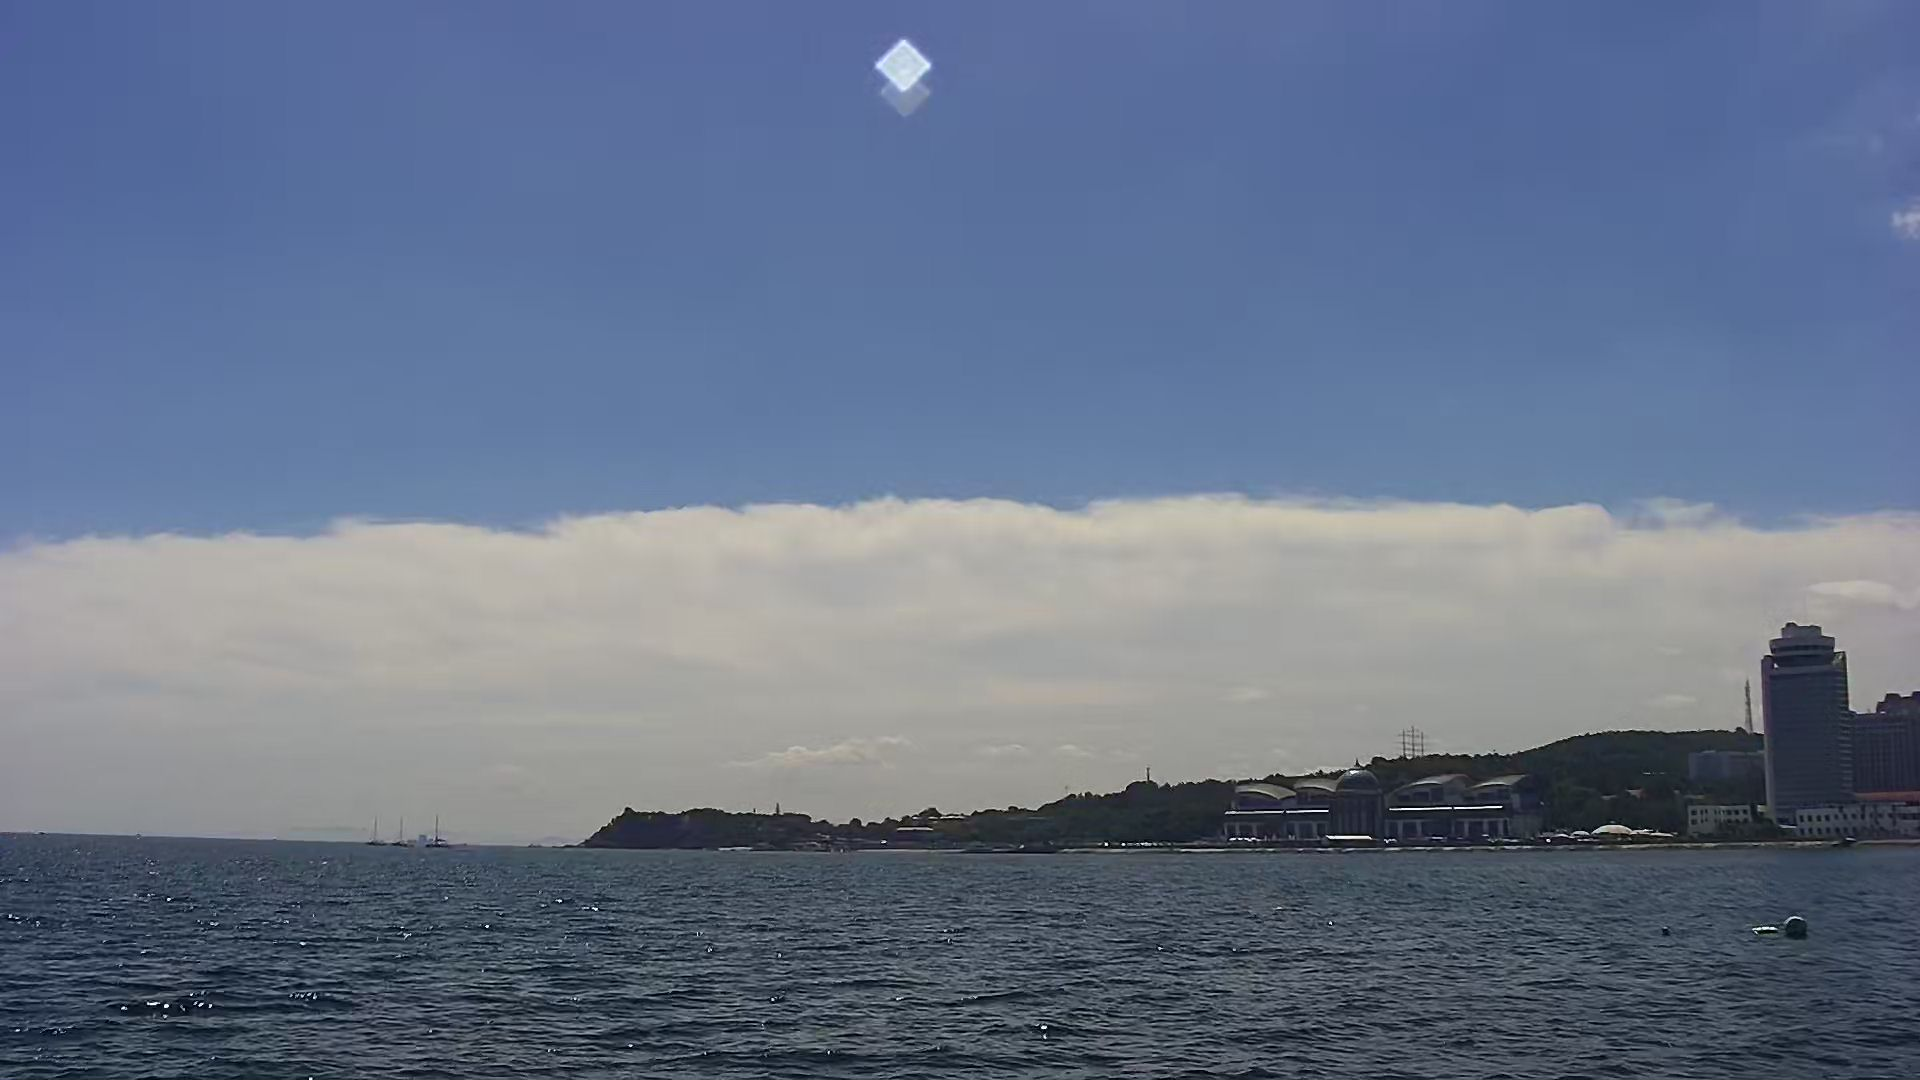ball: (1782, 909, 1811, 945)
